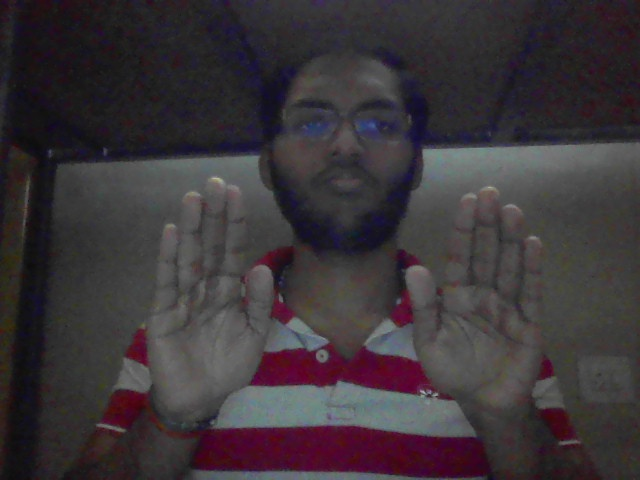God_Bless_You: (137, 166, 640, 419)
